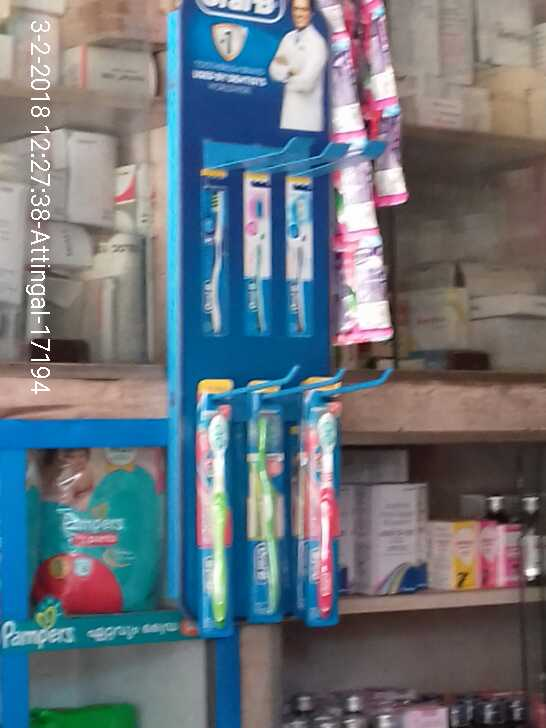pharmacy: (39, 448, 164, 616), (303, 376, 344, 629), (198, 378, 234, 636), (248, 382, 285, 617)
